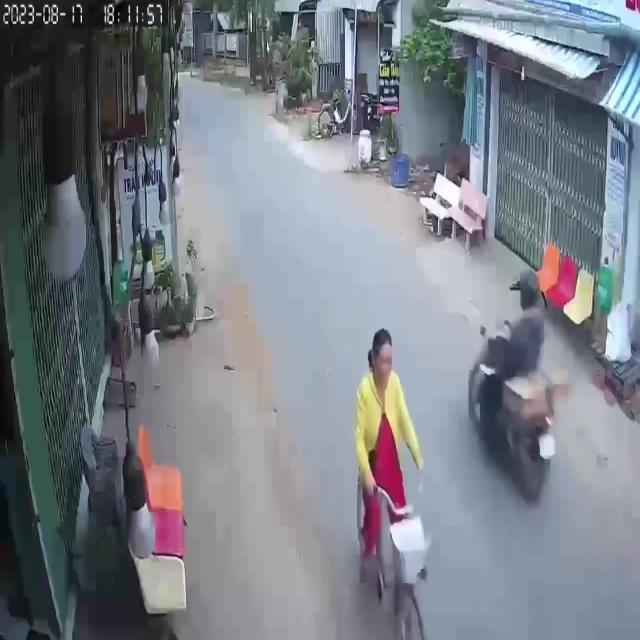normal: (297, 294, 453, 640), (459, 250, 570, 524)
